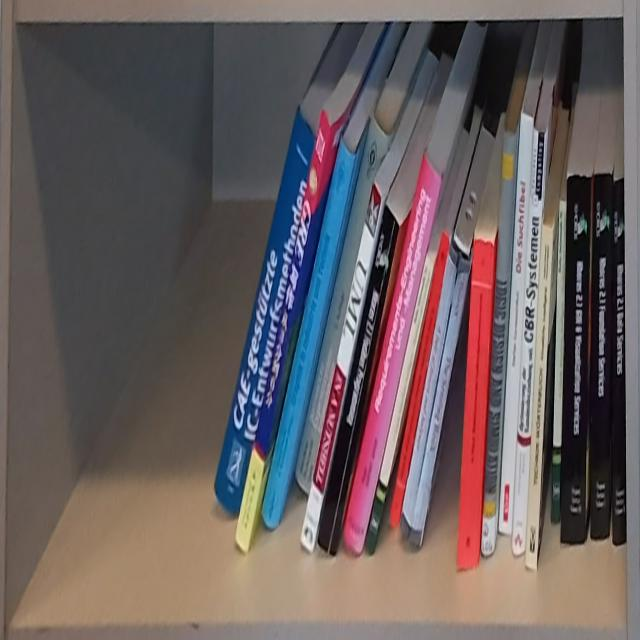Book Spine: (234, 111, 331, 554), (212, 107, 316, 516), (342, 154, 441, 555), (294, 112, 391, 496), (261, 133, 355, 529), (300, 182, 384, 553), (318, 204, 399, 559), (365, 251, 436, 555), (411, 258, 472, 548), (390, 231, 450, 525), (399, 245, 458, 541), (511, 127, 549, 556), (481, 130, 515, 555), (499, 113, 533, 534), (457, 240, 493, 569), (560, 175, 591, 543), (524, 225, 555, 570), (591, 170, 614, 541), (613, 179, 627, 545), (552, 200, 566, 525)
